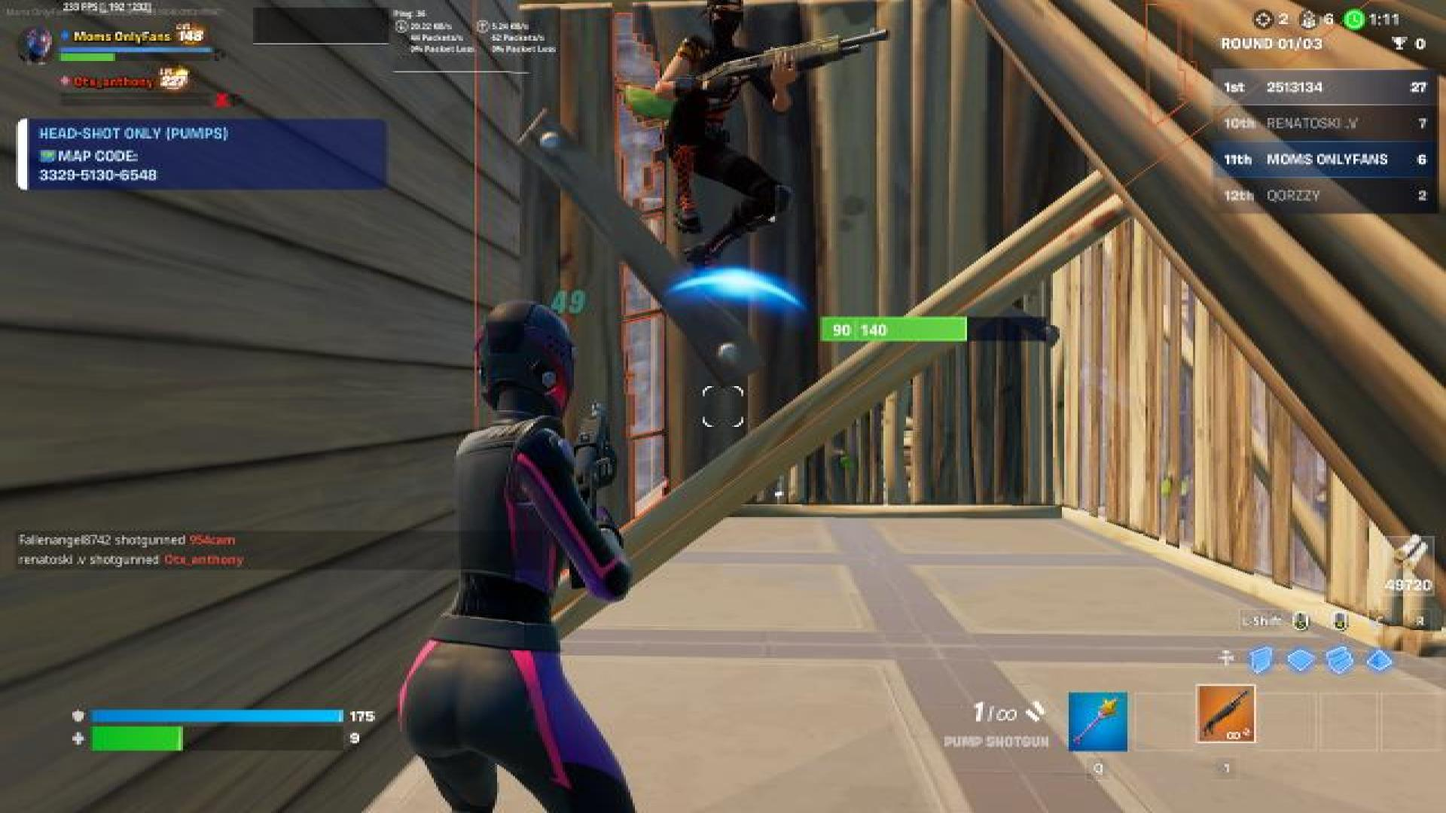player: (660, 0, 800, 316)
